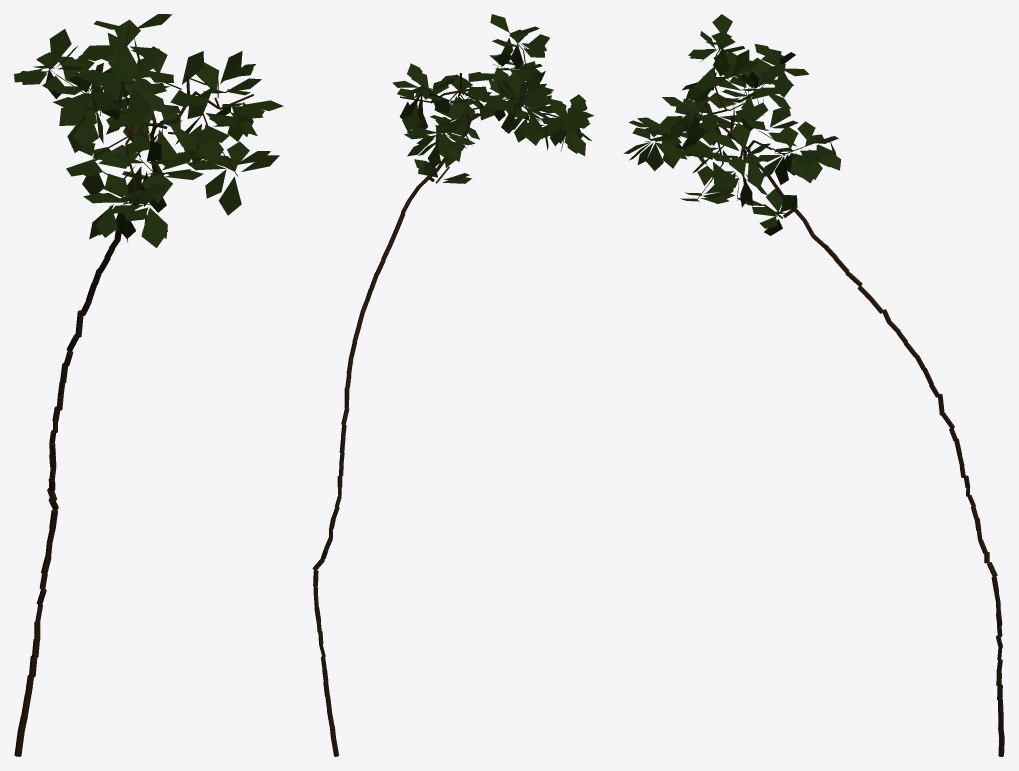
Rendered from tree_414.obj.
The picture shows the model from 3 angles, left to right: view 1: azimuth 30°, elevation 25°; view 2: azimuth 150°, elevation 25°; view 3: azimuth 270°, elevation 25°; orthographic projection. The views are drawn at different scales.
Visible parts, largest first — view 1: Leaves, TrunkAndBranches; view 2: Leaves, TrunkAndBranches; view 3: Leaves, TrunkAndBranches.
Boxes of the visible parts, left/top/right/bottom form: Leaves: left=14, top=14, right=283, bottom=247; TrunkAndBranches: left=14, top=26, right=253, bottom=756; Leaves: left=392, top=14, right=593, bottom=183; TrunkAndBranches: left=312, top=32, right=580, bottom=756; Leaves: left=623, top=14, right=841, bottom=235; TrunkAndBranches: left=645, top=39, right=1004, bottom=756.
Bounding box in the file's own units: 1.93 × 6.81 × 3.35.
